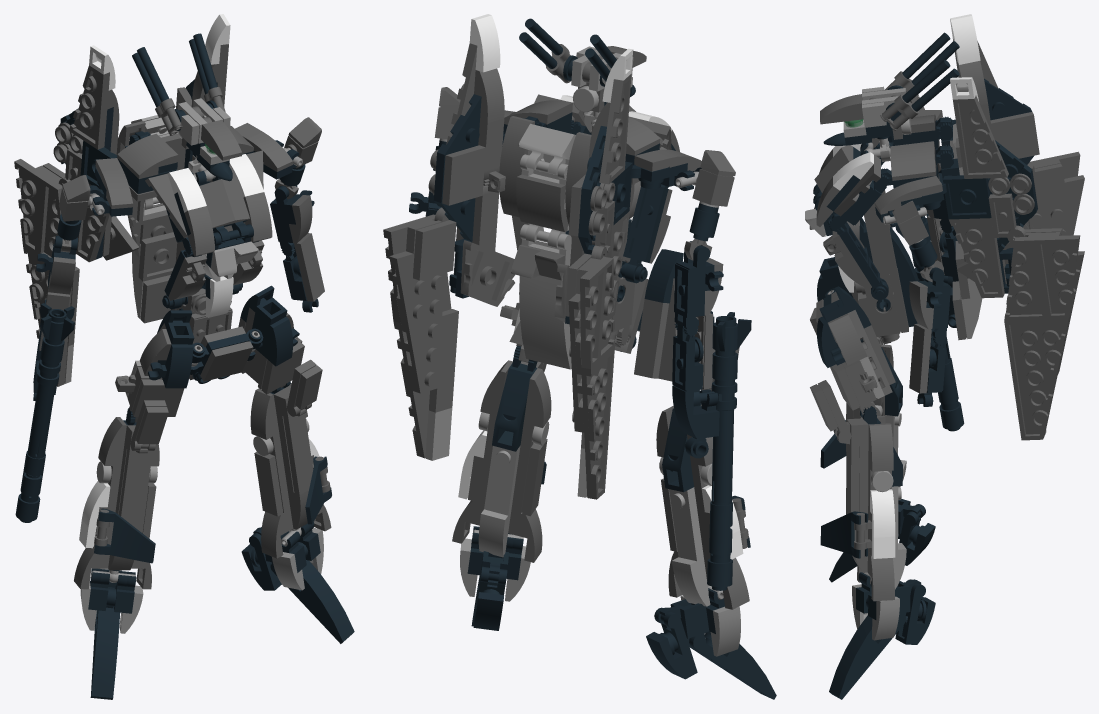
The model's file is vf-25-battroid.dae.
The picture shows the model from 3 angles, left to right: view 1: azimuth 30°, elevation 25°; view 2: azimuth 150°, elevation 25°; view 3: azimuth 270°, elevation 25°; orthographic projection. The views are drawn at different scales.
Size of the model in its own units: 305 by 253 by 591.
